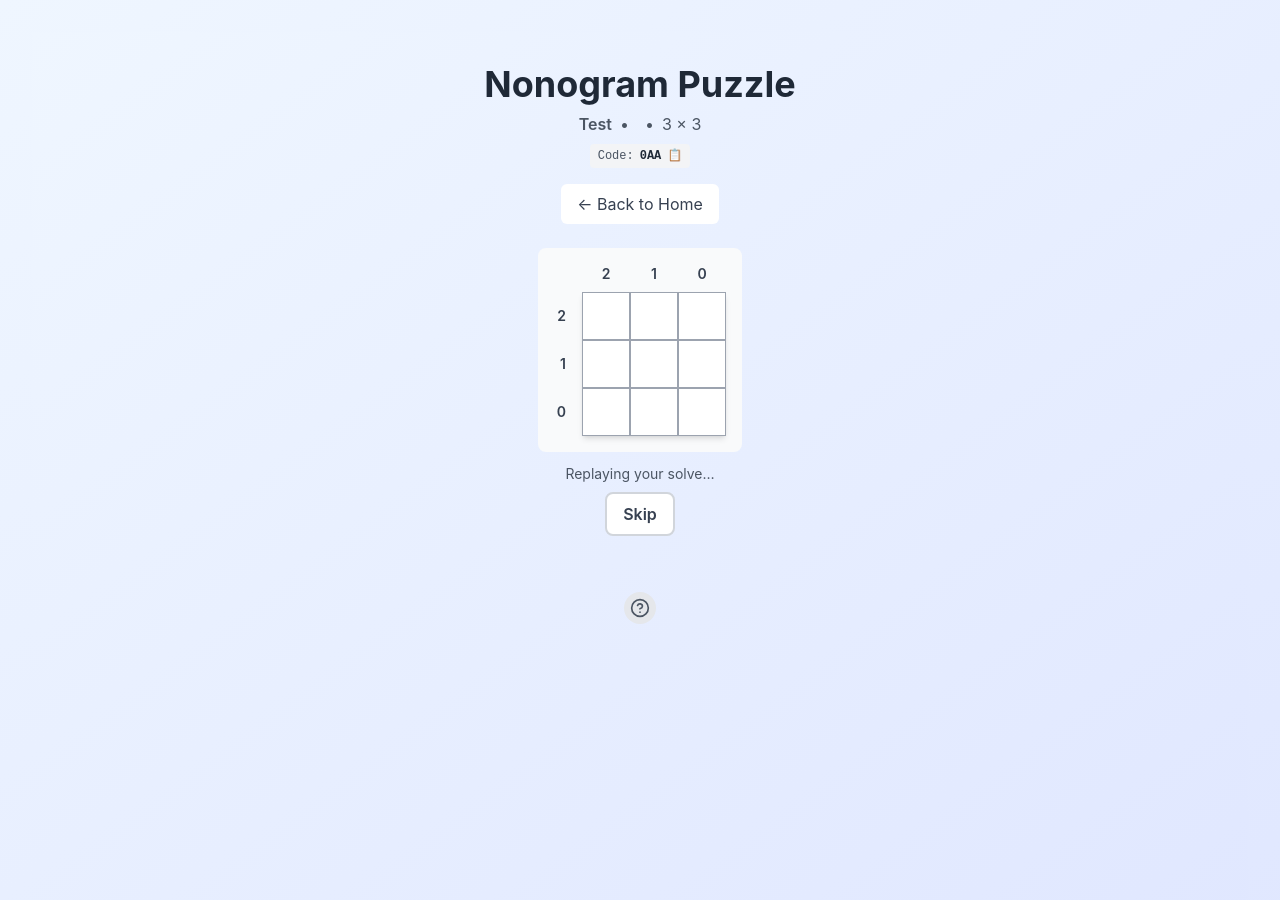
Test: App - solve replay › replays the solve before showing the completion modal
This screenshot has width=1280, height=900.
Expected: the text "Replaying your solve…" is shown, [565,464,715,484]
Expected: the text "Puzzle Complete!" is not shown
Click the button "Skip" at (640, 514), box [605,492,675,536]
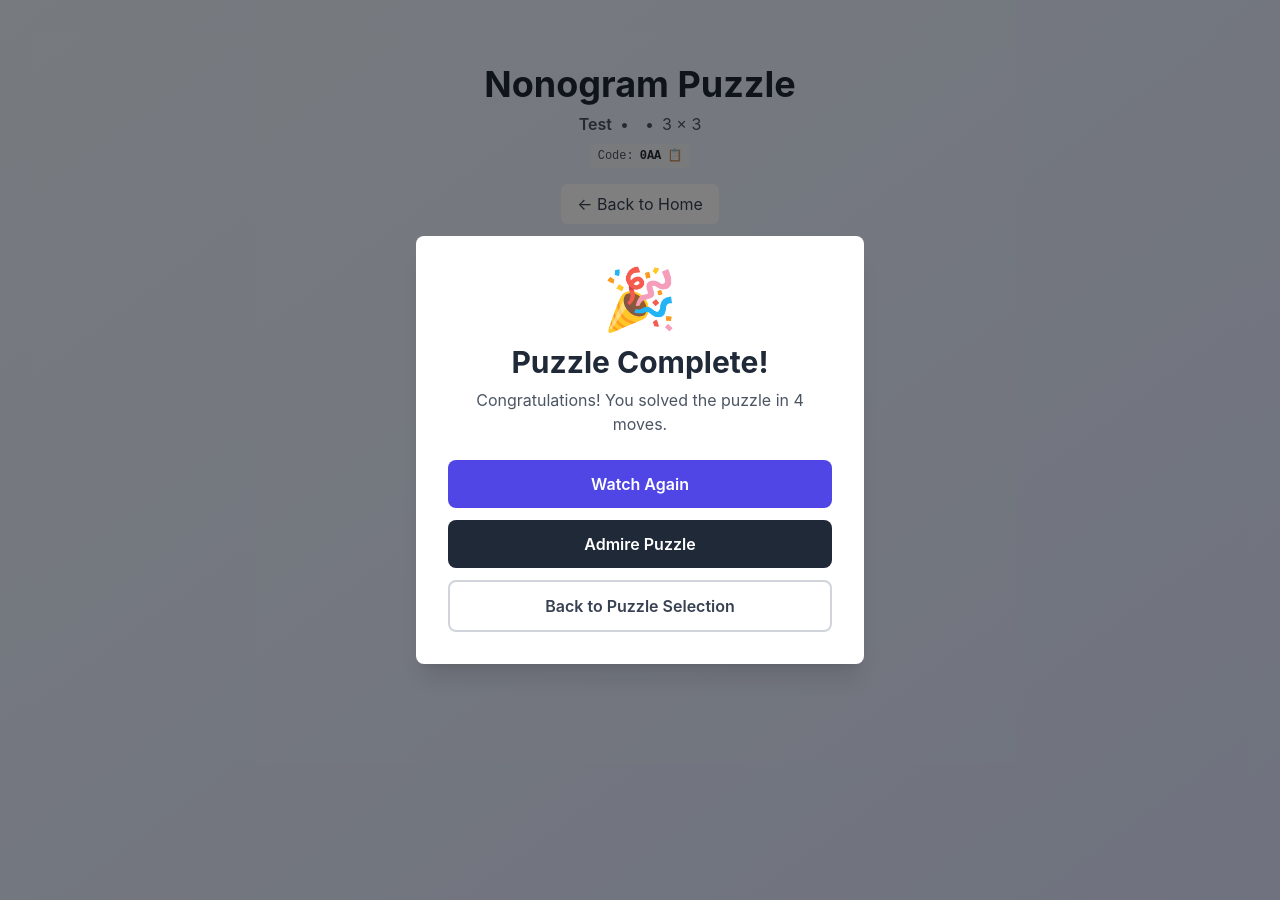
Expected: the heading "Puzzle Complete!" is shown, [511,344,769,380]
Expected: the text "Replaying your solve…" is gone
